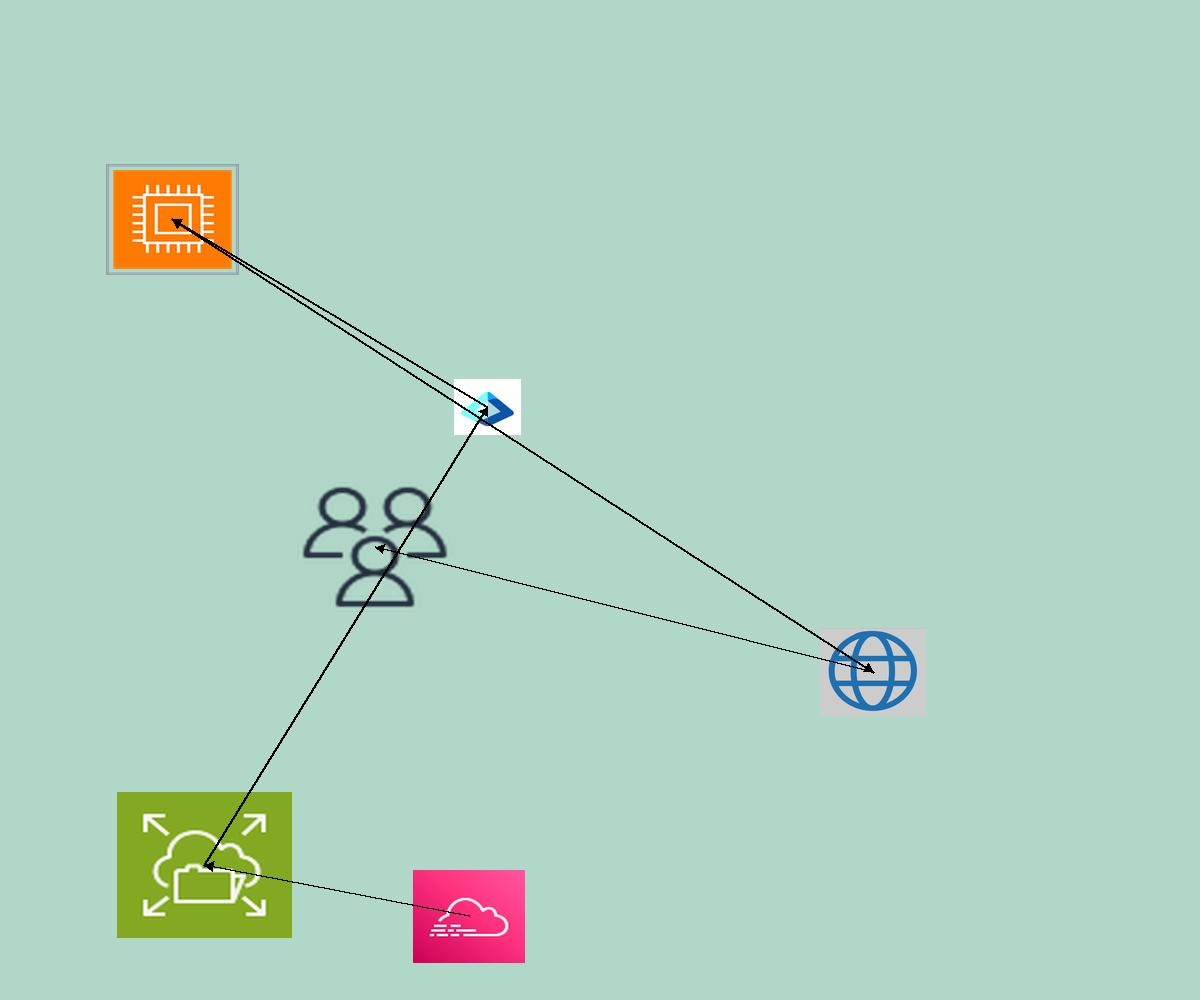AWS-Category_Compute: (106, 164, 239, 275)
AWS-CloudTrail: (413, 870, 525, 963)
AWS-EFS: (117, 792, 292, 938)
AWS-Res_Users: (297, 482, 453, 612)
Azure_http: (820, 628, 926, 716)
Azure_microsoft_entra: (454, 379, 521, 435)
